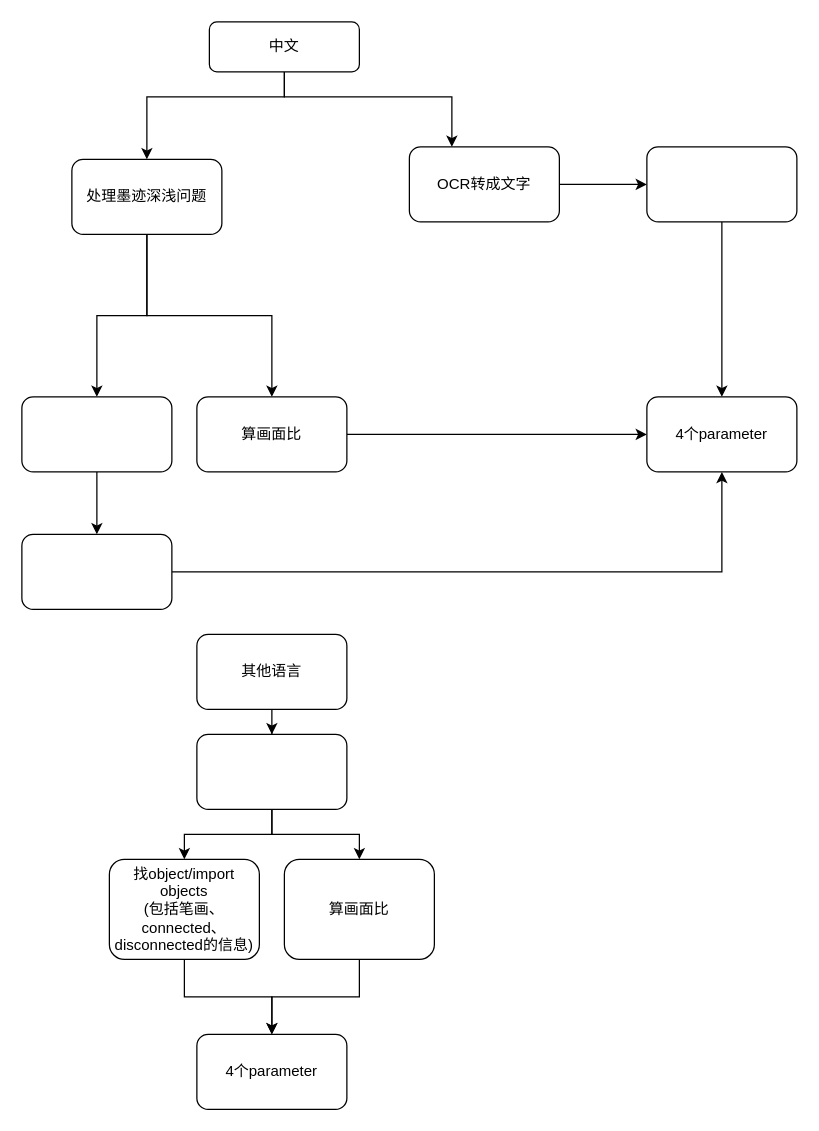
Some shapes in this 819 by 1131 pixel diagram are drawn without their labels. Here are the shapes that lost their labels. From the top down, the centre of each, then its label:
At (x=721, y=184): "找笔画数".
At (x=96, y=434): "找object".
At (x=96, y=571): "根据object定：1. connected的笔画；2. disconnected的笔画".
At (x=271, y=771): "墨迹深浅问题".
